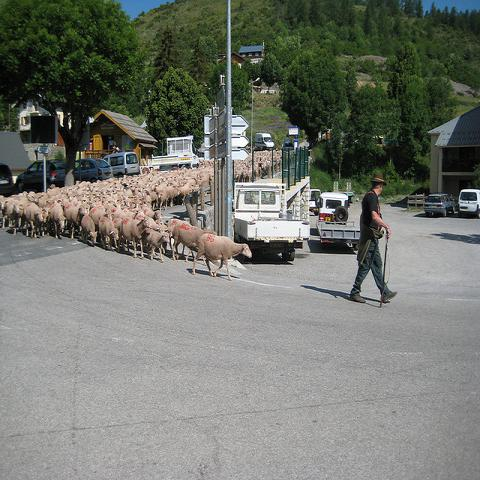car: (16, 159, 66, 193), (318, 192, 348, 222), (103, 151, 139, 174), (424, 193, 456, 217), (75, 160, 113, 178), (458, 188, 479, 219), (0, 163, 14, 196), (308, 188, 323, 216), (282, 139, 294, 151)
truck: (233, 183, 311, 262), (254, 133, 275, 151)
